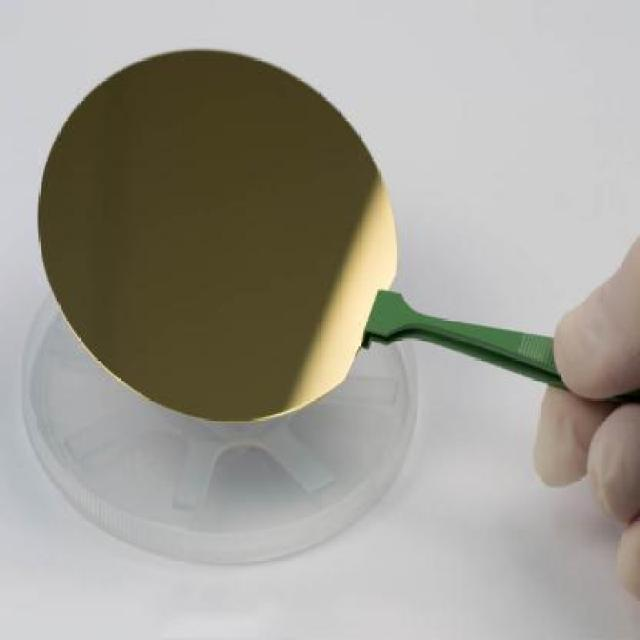Wafer: (37, 51, 400, 426)
